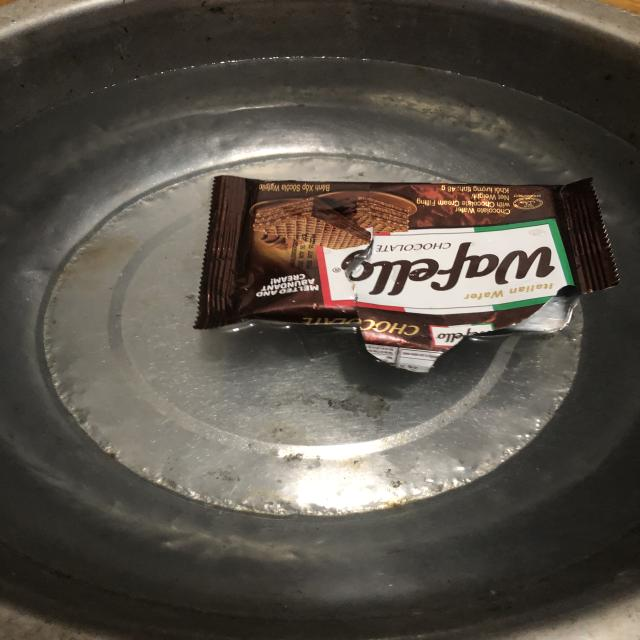Plastic Wrapper: (194, 175, 619, 371)
